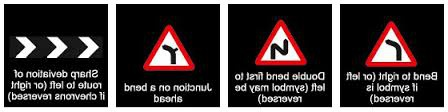Double_bend_right: (255, 19, 309, 66)
